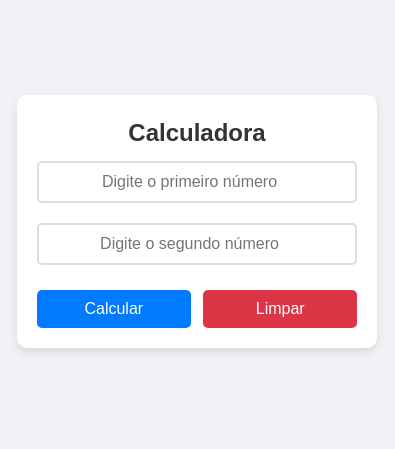
Test case: Calculator › should clear inputs and results when clicking 'Limpar'
This screenshot has width=395, height=449.
# Preencher os inputs e calcular
Type "5" into the number field with placeholder "Digite o primeiro número" at coordinates (197, 182), box [37,160,357,202]
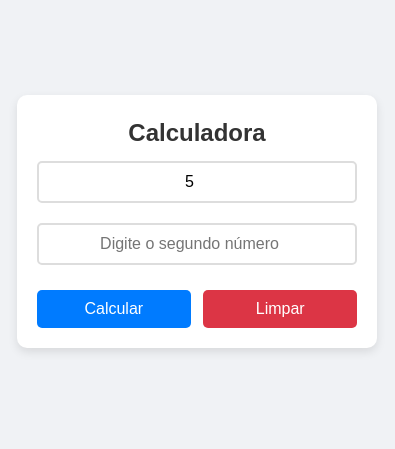
Type "3" into the number field with placeholder "Digite o segundo número" at coordinates (197, 244), box [37,222,357,264]
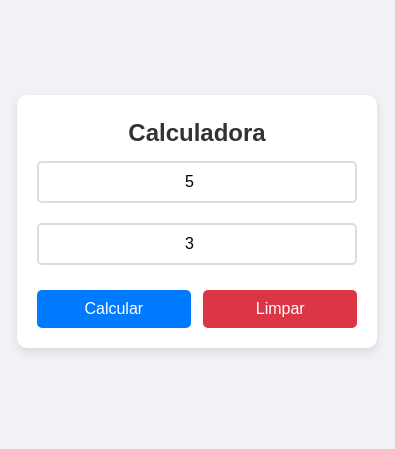
Click the button "Calcular" at coordinates (114, 308), box [37,290,191,328]
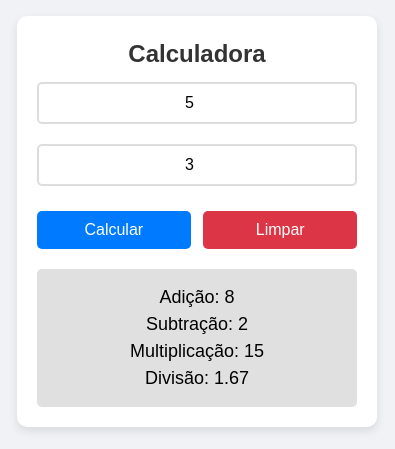
Result: the text "Adição: 8" is shown at [160,286,235,306]
# Clicar em "Limpar"
Click the button "Limpar" at coordinates (280, 230), box [203,210,357,248]
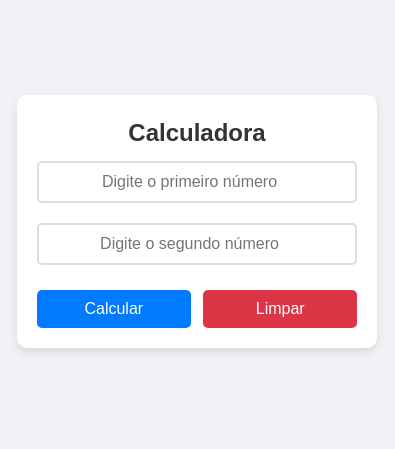
Result: the number field with placeholder "Digite o primeiro número" is empty at [37,160,357,202]
Result: the number field with placeholder "Digite o segundo número" is empty at [37,222,357,264]
Result: the text "Adição: 8" is gone
